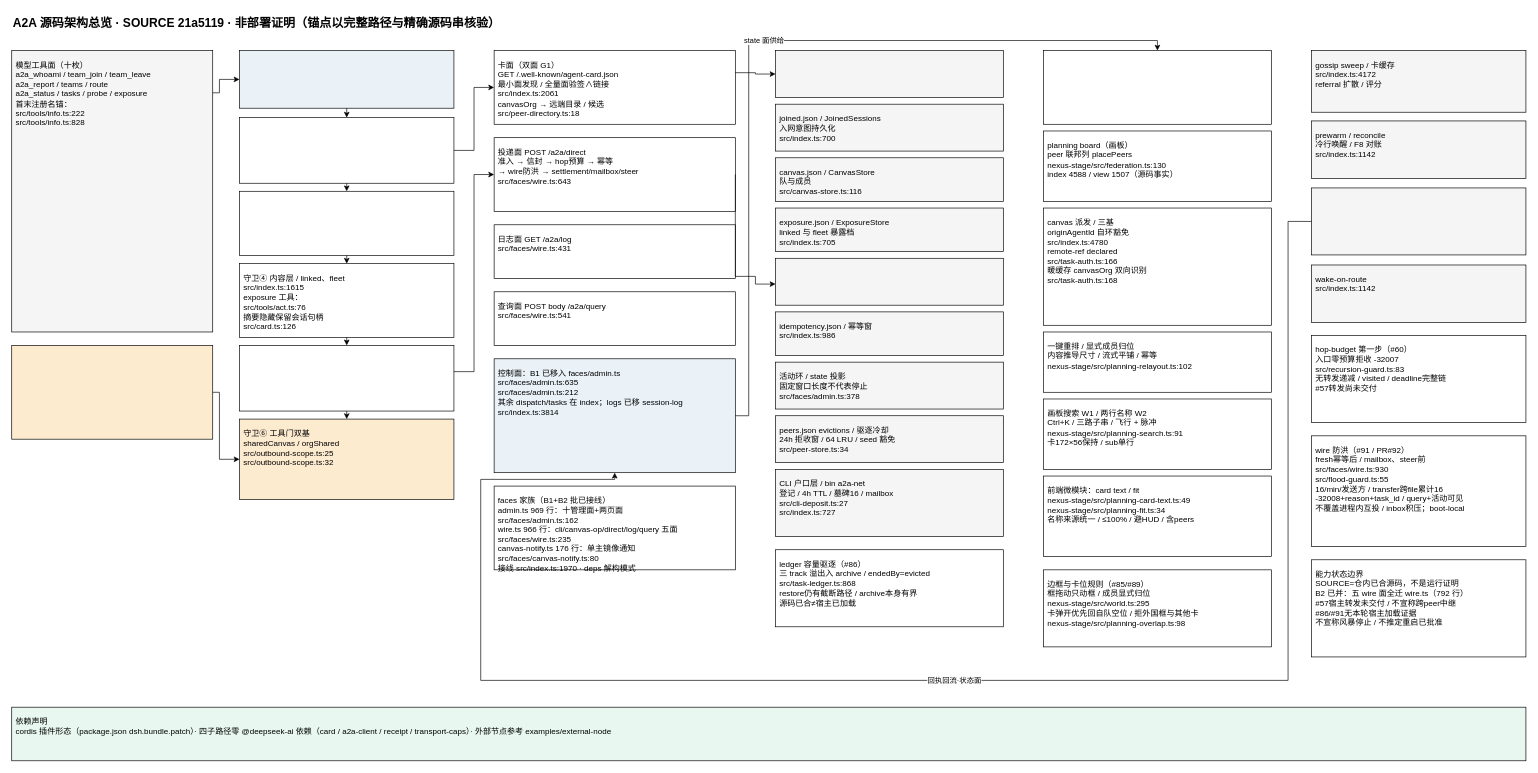
Image size: 1538x773. Some labels were removed from this diagram. Each missing label, with the box of its shape:
peers.json / PeerStore 种子与学习 / 评分驱逐 src/index.ts:617: (775, 50, 1003, 97)
tasks.json / TaskLedger pending / dead / archived src/index.ts:787: (775, 258, 1003, 305)
workbench（侧栏数据面） 主机轨 renderHosts / 台账 / 活动 nexus-stage/src/workbench.ts:638: (1043, 50, 1271, 124)
回执梯 / 三阶硬序 src/index.ts:2931 src/index.ts:2941: (1311, 187, 1526, 255)
守卫① 连接层 peerAllowlist / referralLearning src/index.ts:628: (239, 50, 454, 108)
守卫② 身份层 OriginClaim 信封验签 src/origin-claim.ts:202 卡钥身份锚 / ±5min 状态窗: (239, 117, 454, 183)
守卫③ 链接层 canvas 精确句柄 / roster / 双边互种 src/index.ts:3294 全量卡 = 验签 ∧ 链接: (239, 191, 454, 256)
守卫⑤ 目标级 F5 caller declared ∩ 目标链接集 src/task-auth.ts:139 进程队面保留宿主级例外: (239, 345, 454, 411)
工具面拦截（守卫⑥） 模型直投裸 zone（进程队面）拒绝 src/tools/act.ts:233 宿主内部路径不受此工具门影响: (11, 345, 213, 439)
